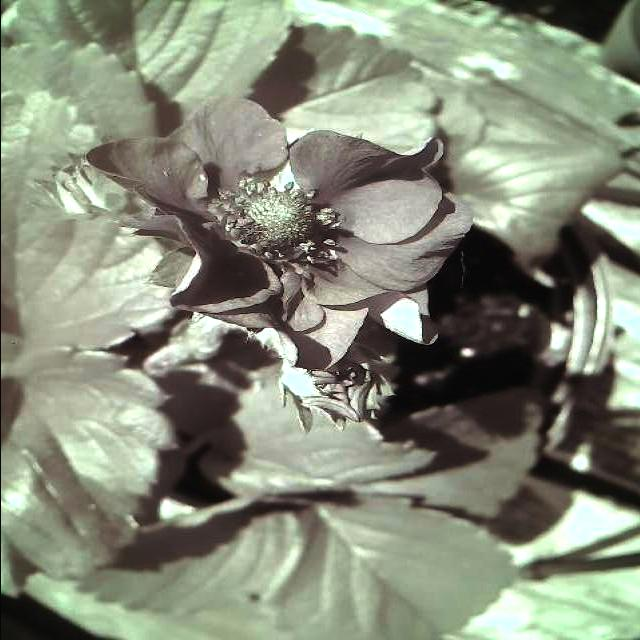flower: (78, 90, 486, 370)
